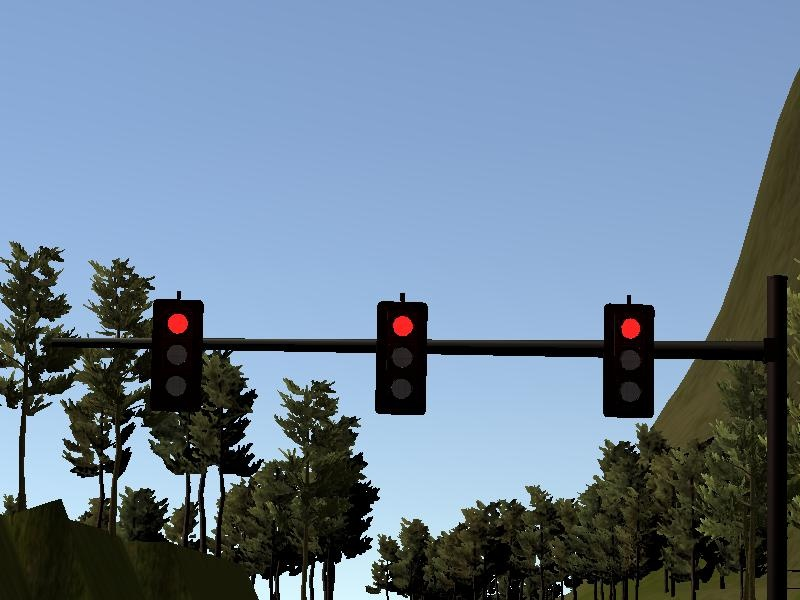red: (599, 298, 659, 420), (148, 292, 206, 416), (374, 295, 431, 418)
